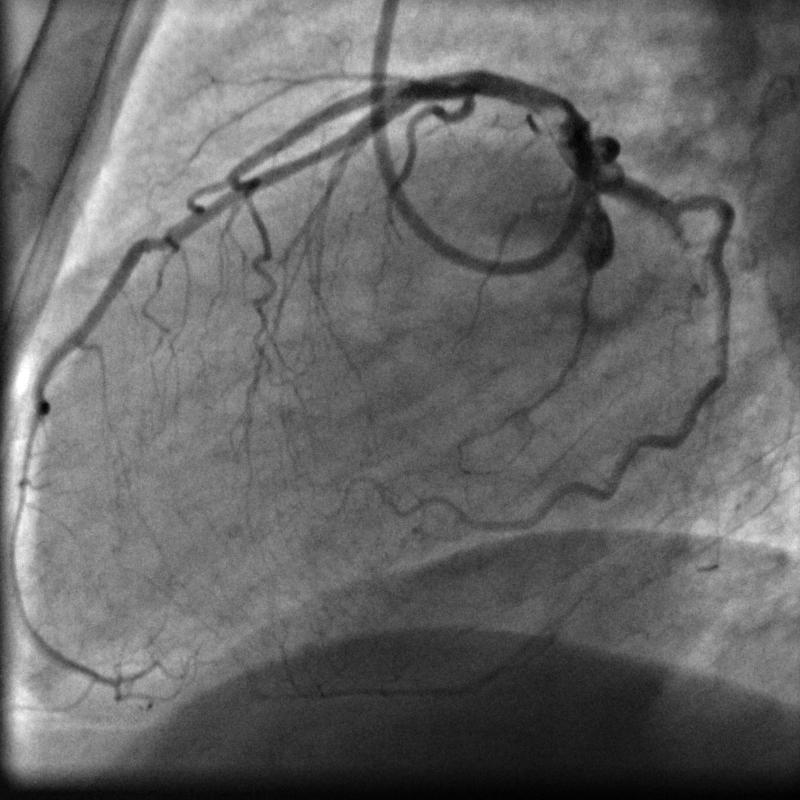Stenosis: (442, 64, 485, 114)
